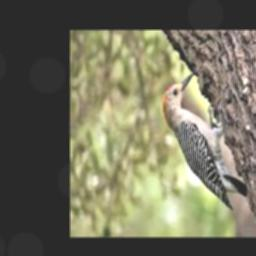Woodpecker: (163, 72, 248, 211)
